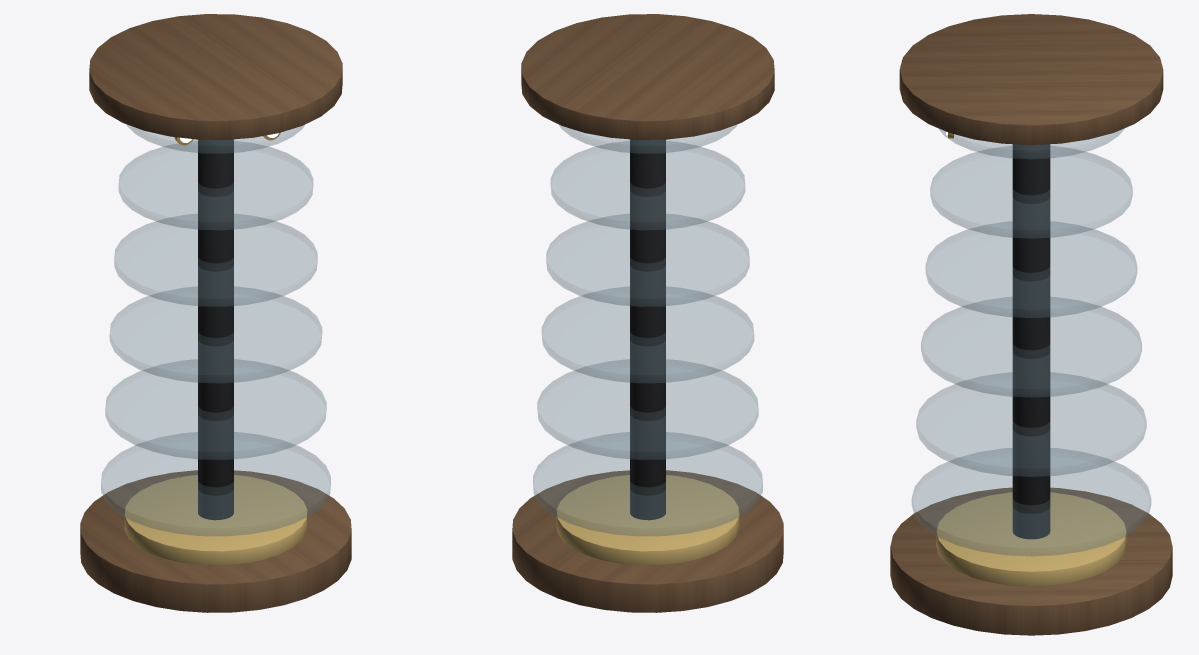
File: pf_display_rotating_display_t4.glb
3 renders of one model, left to right at view 1: azimuth 30°, elevation 25°; view 2: azimuth 150°, elevation 25°; view 3: azimuth 270°, elevation 25°, orthographic. The views are drawn at different scales.
Visible parts, largest first — view 1: Rotor_Canopy, Stationary_Base, Rotor_Deck_01, Rotor_Deck_02, Rotor_Deck_03, Rotor_Column, Rotor_Deck_04, Rotor_Deck_05, Turntable_Bearing, Rotor_Deck_06; view 2: Rotor_Canopy, Stationary_Base, Rotor_Deck_01, Rotor_Deck_02, Rotor_Deck_03, Rotor_Column, Rotor_Deck_04, Rotor_Deck_05, Turntable_Bearing, Rotor_Deck_06; view 3: Rotor_Canopy, Stationary_Base, Rotor_Deck_01, Rotor_Deck_02, Rotor_Deck_03, Rotor_Column, Rotor_Deck_04, Rotor_Deck_05, Turntable_Bearing, Rotor_Deck_06.
Part boxes in pixels (box(x1,y1,x2,y2)): Rotor_Canopy: box(89, 14, 342, 139); Stationary_Base: box(80, 470, 351, 612); Rotor_Deck_01: box(101, 432, 330, 535); Rotor_Deck_02: box(105, 359, 326, 459); Rotor_Deck_03: box(110, 286, 321, 382); Rotor_Column: box(198, 139, 233, 520); Rotor_Deck_04: box(114, 214, 317, 306); Rotor_Deck_05: box(119, 141, 312, 229); Turntable_Bearing: box(124, 475, 307, 565); Rotor_Deck_06: box(126, 124, 304, 153); Rotor_Canopy: box(521, 14, 774, 139); Stationary_Base: box(512, 470, 783, 612); Rotor_Deck_01: box(533, 432, 762, 535); Rotor_Deck_02: box(537, 359, 758, 459); Rotor_Deck_03: box(542, 286, 753, 382); Rotor_Column: box(630, 139, 665, 520); Rotor_Deck_04: box(546, 214, 749, 306); Rotor_Deck_05: box(551, 141, 744, 229); Turntable_Bearing: box(556, 475, 739, 565); Rotor_Deck_06: box(559, 124, 737, 153); Rotor_Canopy: box(899, 14, 1163, 144); Stationary_Base: box(890, 487, 1172, 635); Rotor_Deck_01: box(912, 448, 1150, 555); Rotor_Deck_02: box(916, 372, 1146, 476); Rotor_Deck_03: box(921, 297, 1141, 397); Rotor_Column: box(1012, 144, 1050, 539); Rotor_Deck_04: box(926, 221, 1136, 317); Rotor_Deck_05: box(930, 146, 1132, 238); Turntable_Bearing: box(936, 492, 1126, 586); Rotor_Deck_06: box(938, 128, 1124, 158).
Bounding box in the file's own units: 1.12 × 2.04 × 1.12.
Materials: 6 (2 with a texture image).
